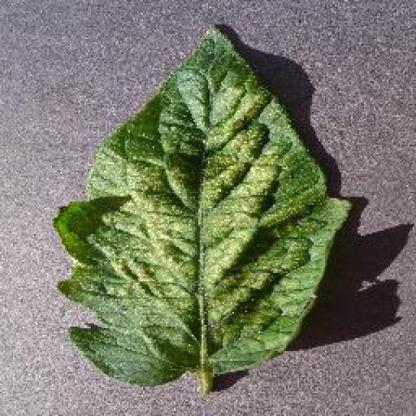Tomato_Spider_Mites: (58, 29, 350, 377)
